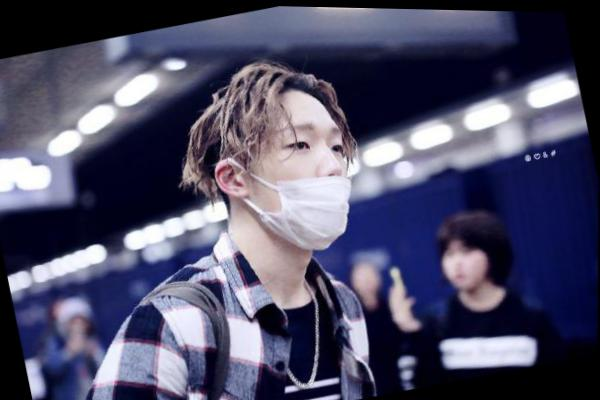NONE: (438, 236, 494, 294)
WRONG: (246, 98, 364, 259)
